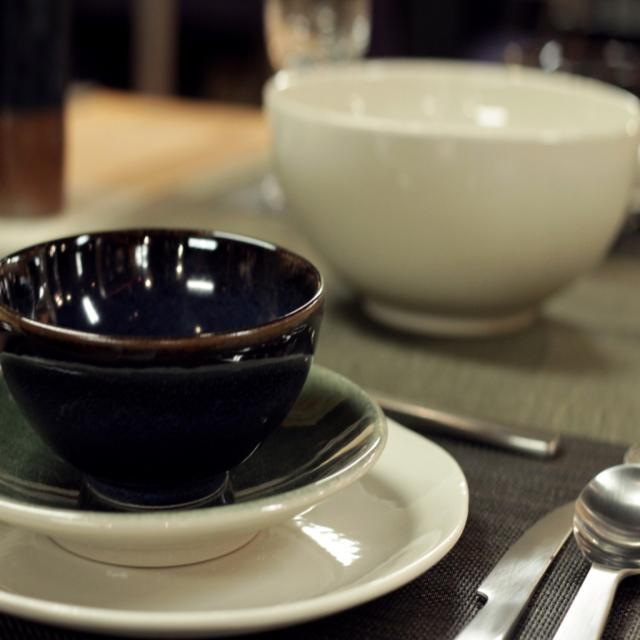non-organic waste: (254, 48, 640, 339), (0, 209, 341, 523)
